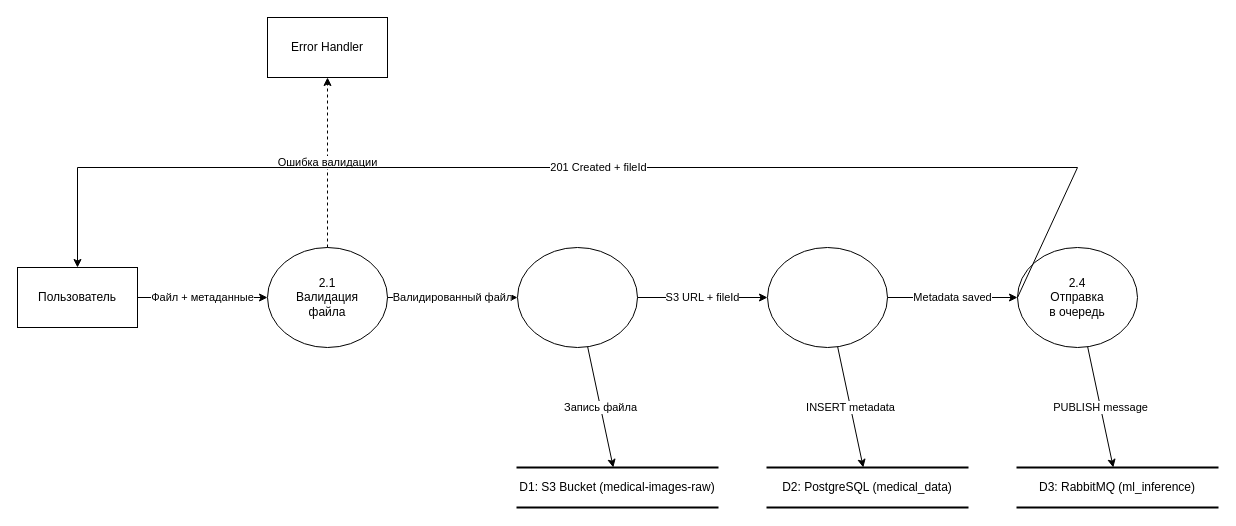
This 1236x526 diagram has some shape labels left out. The shapes that lost their labels are listed below. From the top down, each one's centre as x and y in pixels, then its label:
At [577,297]: "2.2 Загрузка в S3".
At [827,297]: "2.3 Сохранение метаданных".
